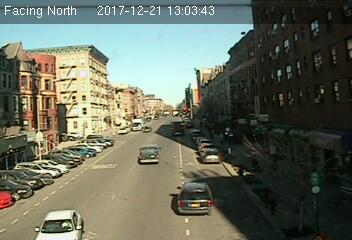car: (176, 181, 213, 215), (138, 145, 160, 164), (202, 148, 221, 164)
ups: (171, 121, 185, 136)
